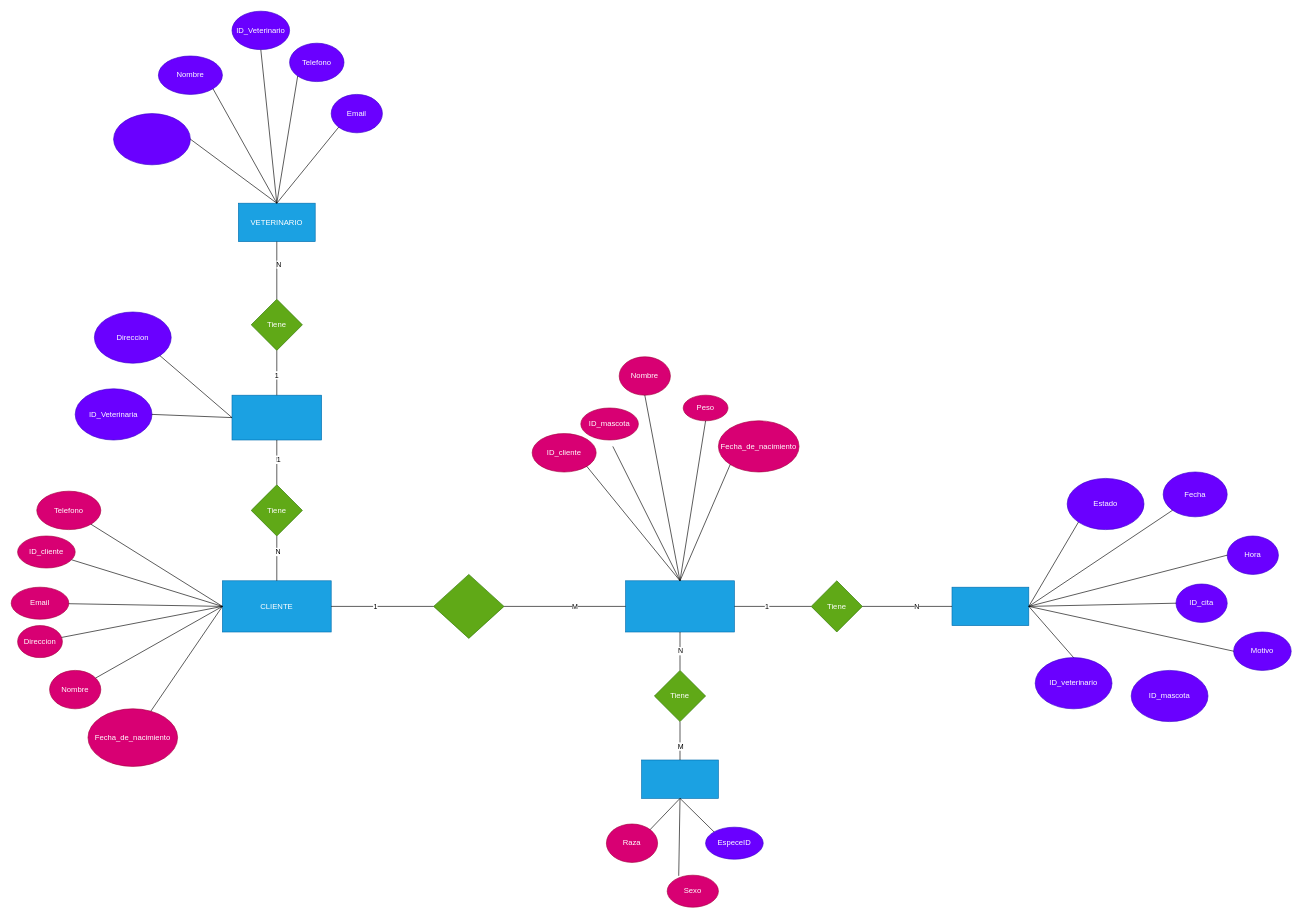
The diagram is 1302 pixels wide and 918 high, and some of its shapes have lost their labels. Each missing label, with the box of its shape:
CITA: (951, 587, 1029, 626)
ESPECIE: (641, 759, 718, 798)
Fecha_Nacimiento: (113, 113, 190, 165)
MASCOTA: (625, 580, 734, 632)
Pertenece: (433, 574, 504, 638)
VETERINARIA: (231, 395, 322, 440)
